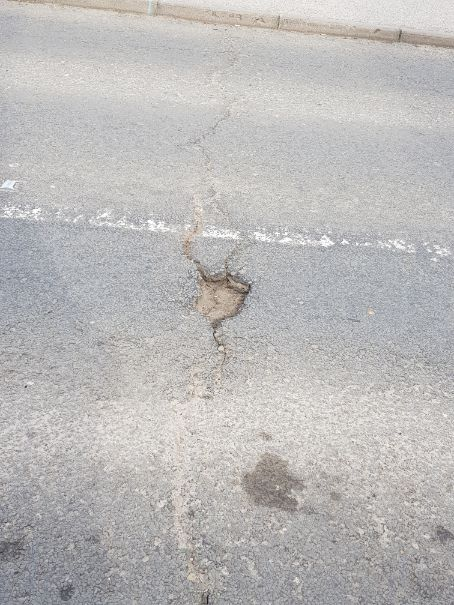pothole: (178, 262, 254, 338)
